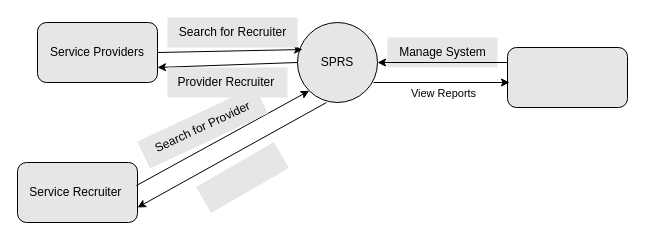
Some shapes in this 645 by 240 pixel diagram are drawn without their labels. The shapes that lost their labels are listed below. From the top down, each one's box as (x1, y1, x2, y2) in pixels, then its label:
(506, 46, 628, 108): Admin
(196, 142, 288, 212): Get Provider
